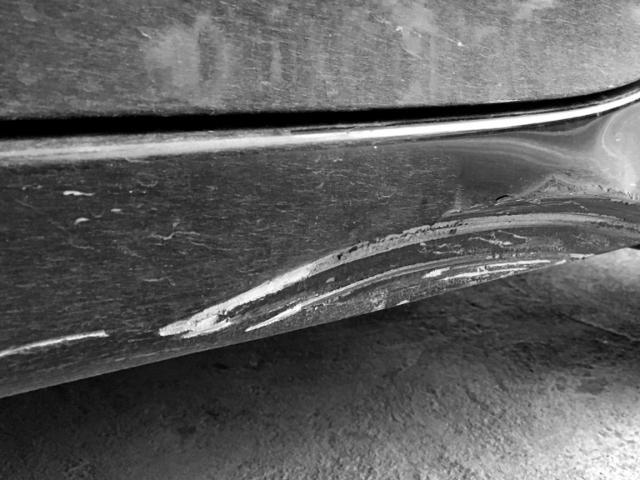Door: (0, 117, 640, 366)
